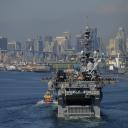Portanaves: (40, 16, 120, 120)
